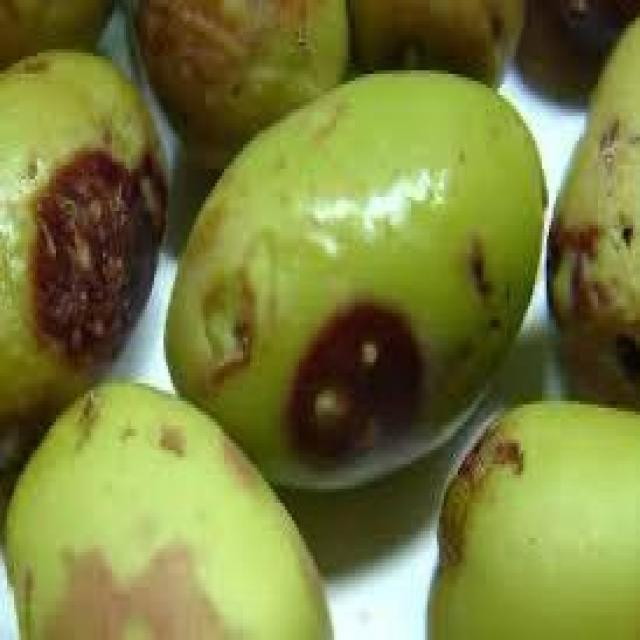Anthracnose: (168, 70, 544, 478), (7, 384, 332, 636), (0, 49, 166, 418), (430, 400, 638, 636), (546, 18, 638, 408), (138, 0, 336, 172)
